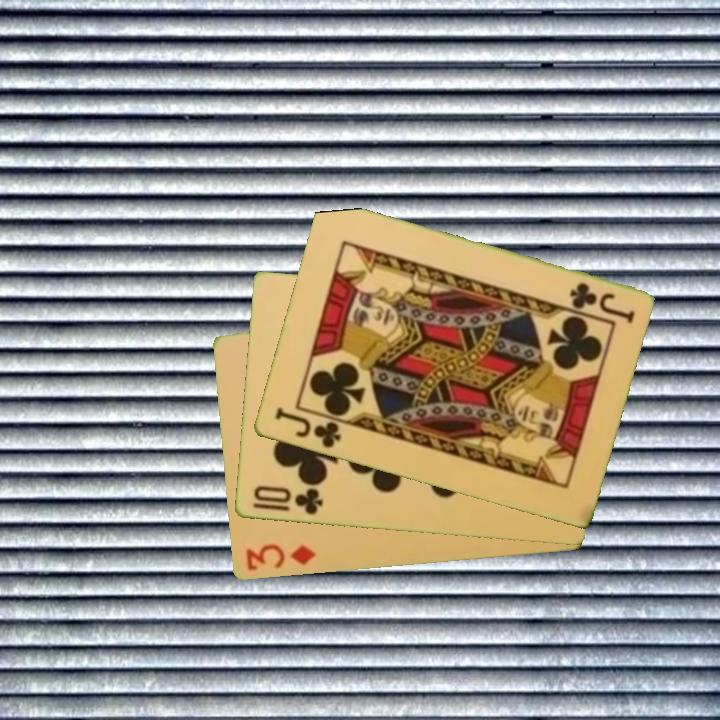10c: (248, 482, 326, 518)
3d: (241, 540, 318, 574)
Jc: (271, 404, 343, 451), (565, 279, 637, 325)
